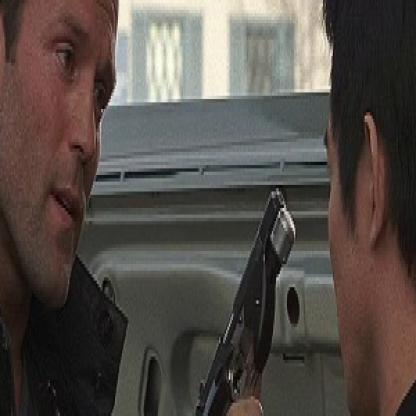gun: (176, 155, 312, 413)
